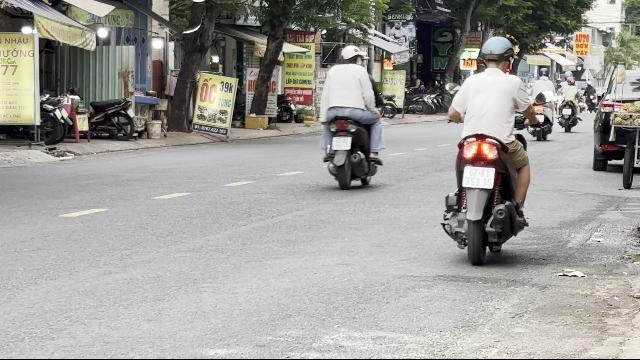helmet: (477, 36, 515, 72), (341, 46, 365, 66)
licenseplate: (462, 166, 494, 188), (332, 138, 352, 150)
motorcyclist: (438, 34, 538, 264), (316, 44, 384, 188)
